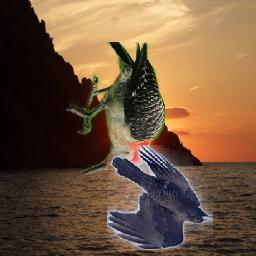Crow: (107, 146, 213, 251)
Woodpecker: (65, 42, 165, 174)
